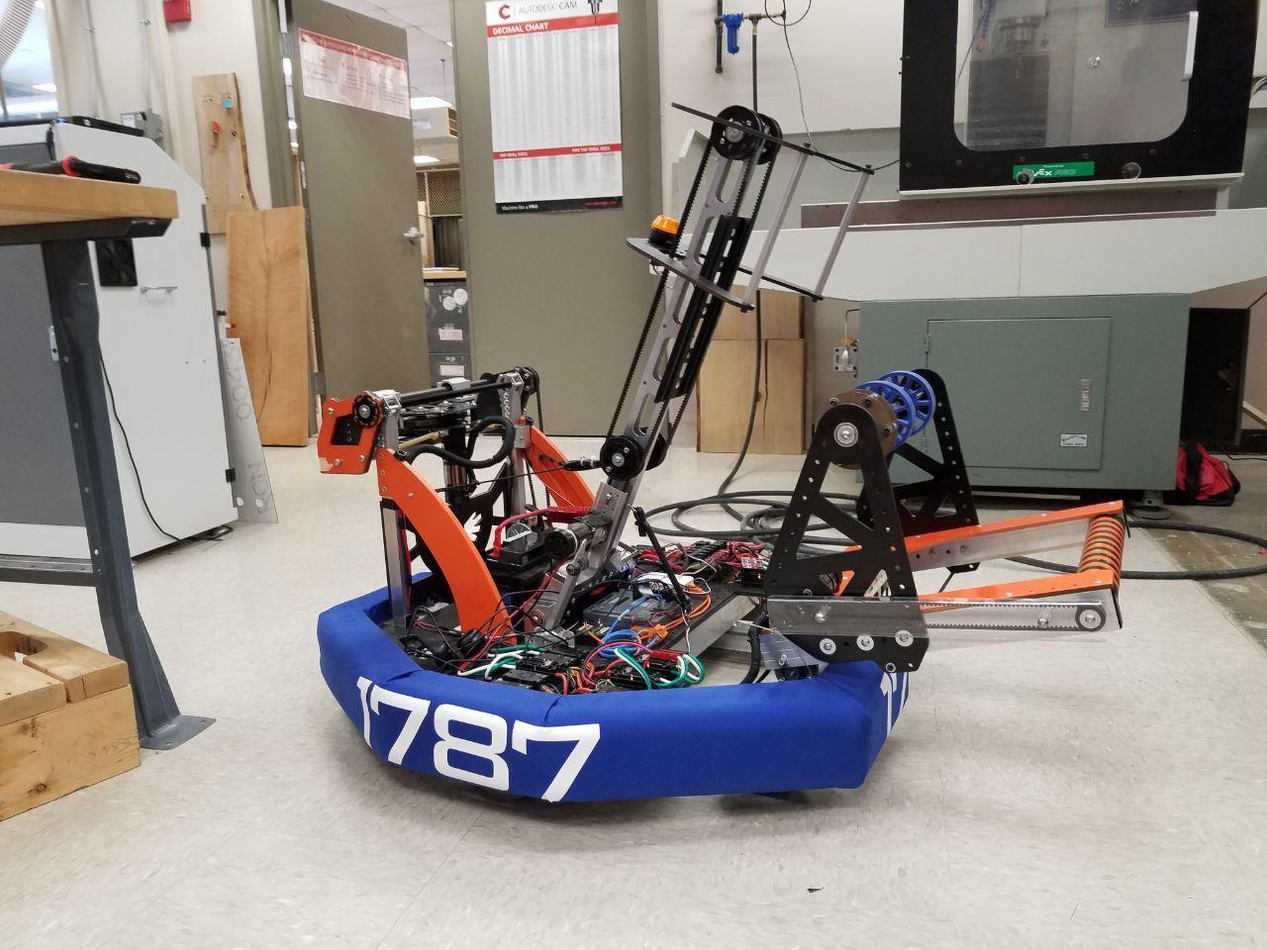robot: (304, 89, 1137, 817)
